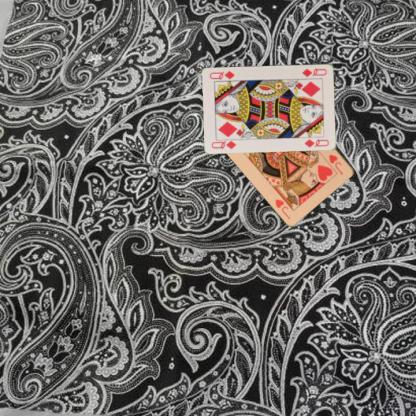Jh: (326, 152, 345, 176)
Qd: (209, 136, 239, 150), (300, 65, 328, 78)
